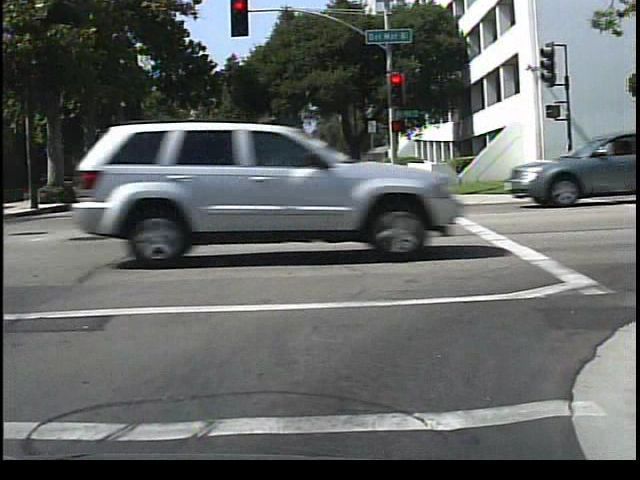car: (73, 129, 462, 260), (510, 135, 640, 202)
